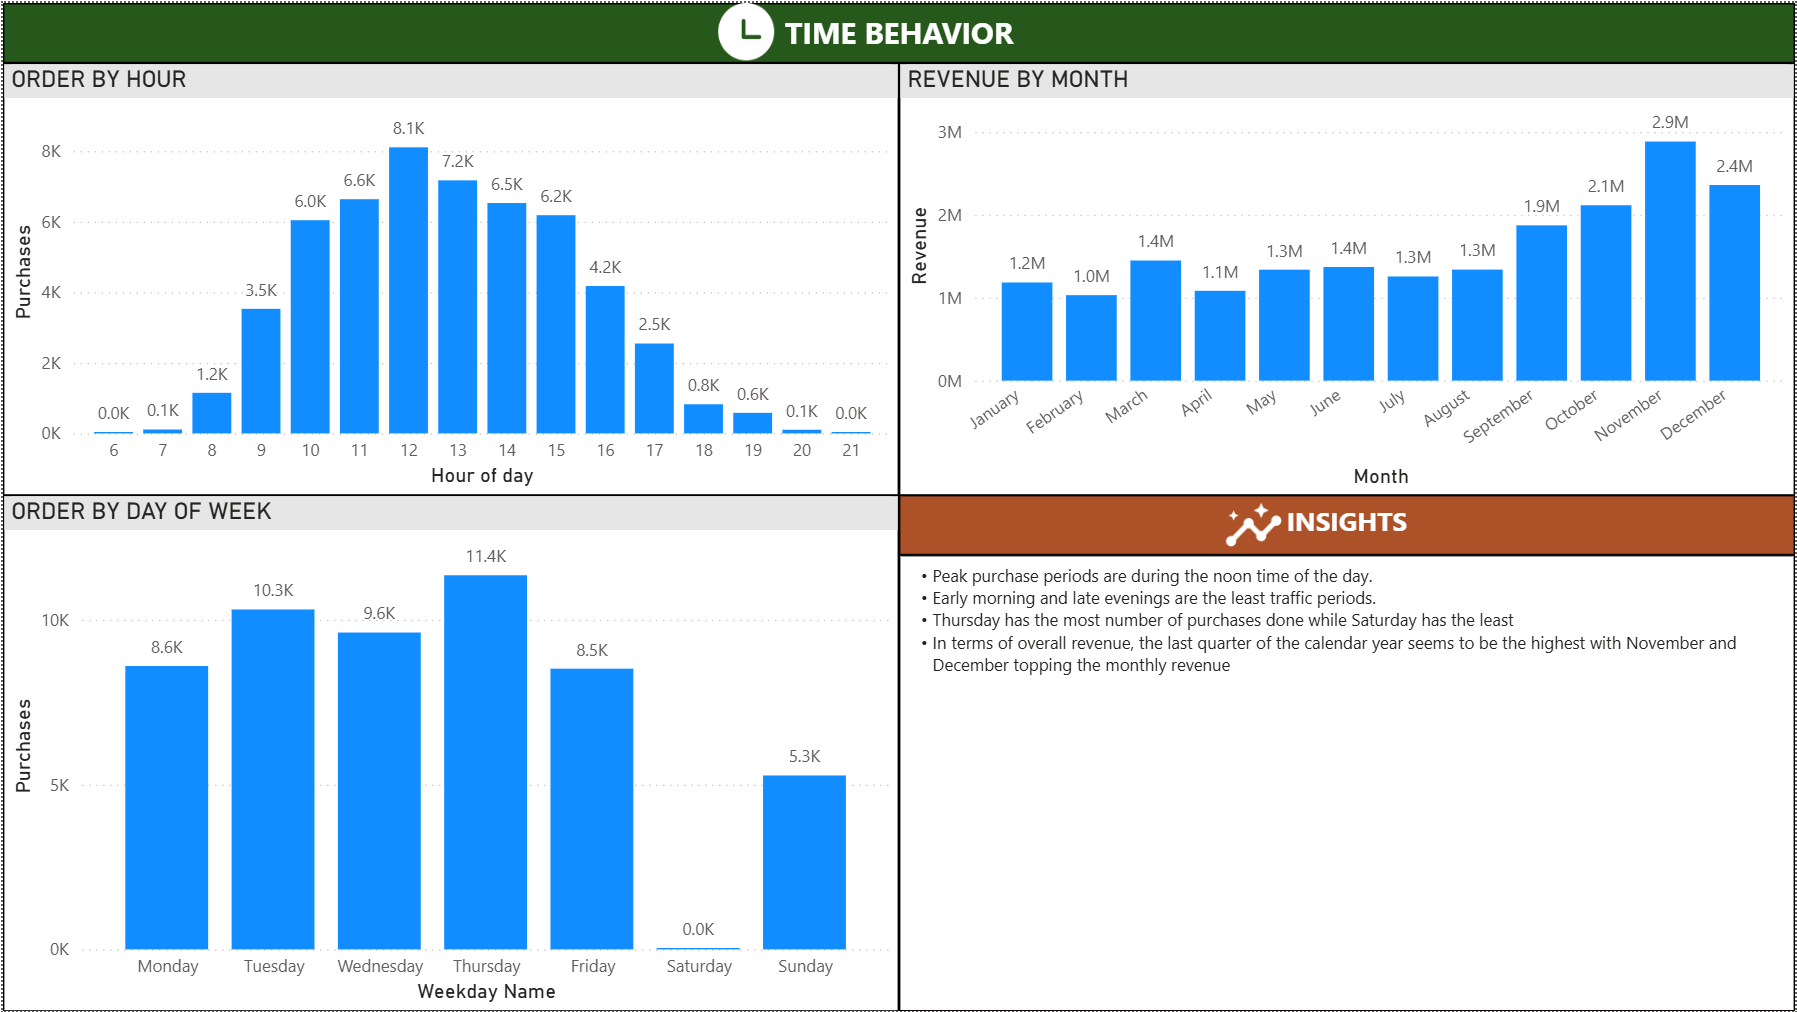

This screenshot's page, from the dashboard's own definition file:
{"tool":"powerbi","page":{"name":"Time Behavior","canvas":[1280,720],"ordinal":2},"visuals":[{"type":"textbox","box":[0,0,1280,43],"z":0},{"type":"columnChart","title":"ORDER BY HOUR","fields":{"Y":["CountNonNull(invoice_summary.invoice_id)"],"Category":["invoice_summary.order_hour"]},"box":[0,42.9,640,308.6],"z":1000},{"type":"columnChart","title":"ORDER BY DAY OF WEEK","fields":{"Y":["CountNonNull(invoice_summary.invoice_id)"],"Category":["Date.Weekday Name"]},"box":[0,351.4,640,368.6],"z":2000},{"type":"columnChart","title":"REVENUE BY MONTH","fields":{"Y":["Sum(invoice_summary.invoice_total)"],"Category":["Date.Month Name"]},"box":[640,42.8,640,308.9],"z":3000},{"type":"textbox","box":[640,394.3,640,325.7],"z":3001},{"type":"image","box":[502.9,0,55.7,40.7],"z":3003},{"type":"textbox","box":[640,351.4,640,42.9],"z":3004},{"type":"image","box":[867.9,351.4,50.7,43.6],"z":3005}]}

Visuals, with their boxes in screenshot pixels (x1, y1, x2, y2), scaled from the page's 1280x720 canvas onto the 1797x1012 screenshot:
textbox: (0,0,1796,60)
"ORDER BY HOUR" columnChart: (0,60,898,494)
"ORDER BY DAY OF WEEK" columnChart: (0,494,898,1011)
"REVENUE BY MONTH" columnChart: (898,60,1796,494)
textbox: (898,554,1796,1011)
image: (706,0,784,57)
textbox: (898,494,1796,554)
image: (1218,494,1290,555)
